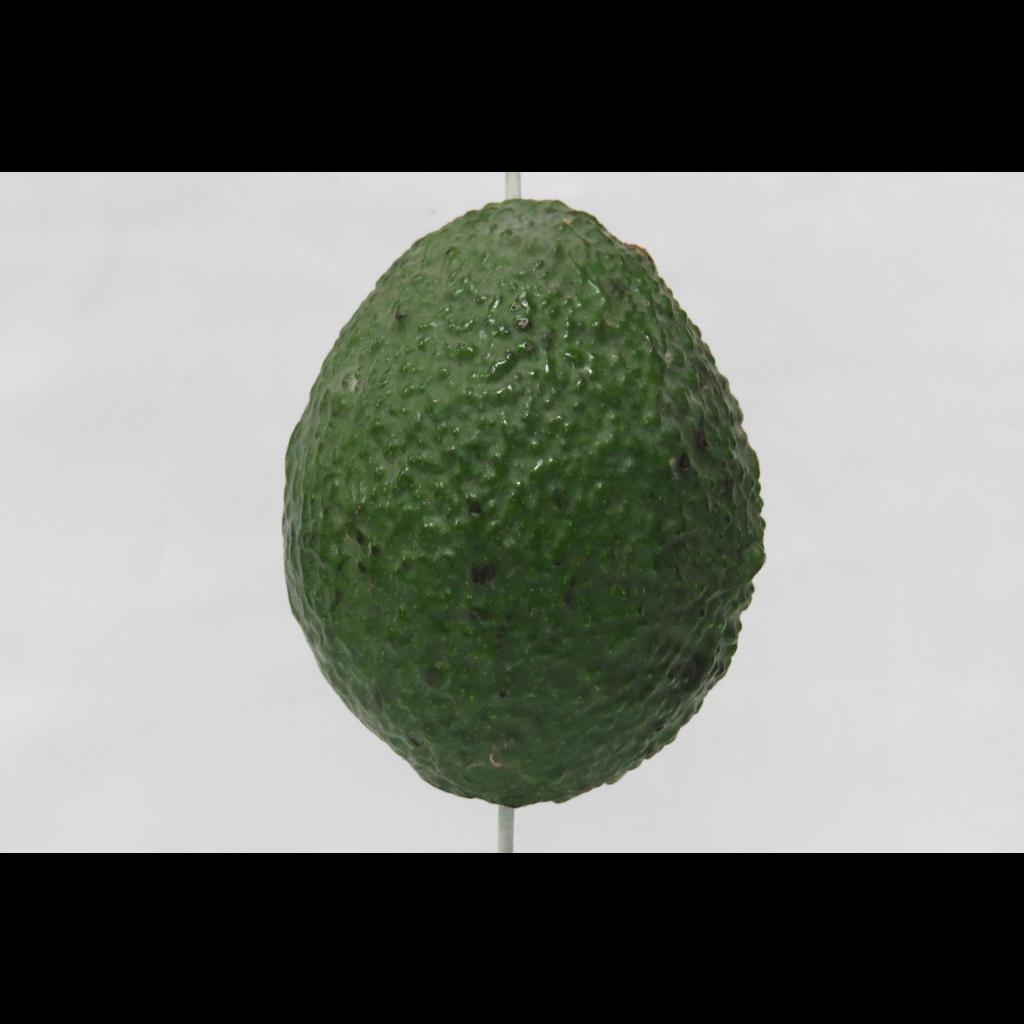fruto_sano: (241, 197, 794, 823)
